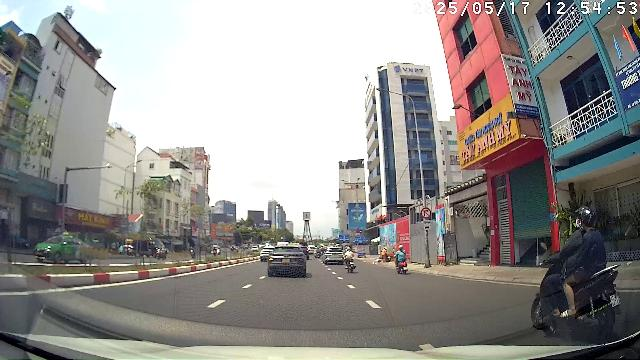123b-cam-re-phai: (421, 208, 432, 218)
